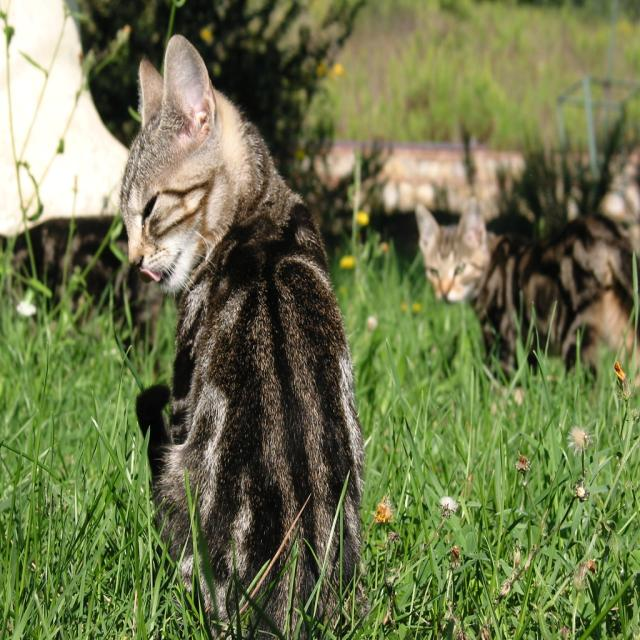Cat: (120, 26, 372, 638), (418, 182, 638, 401)
